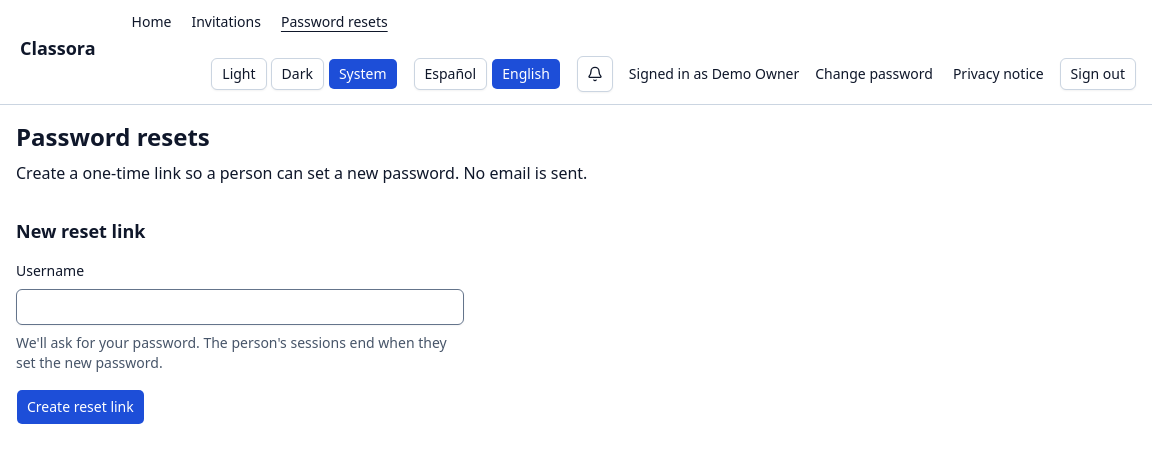
Test: the form (I2, I3) › validates an empty username without a request
Click the button "Create reset link".
click(80, 407)  # box top-left (16, 389), bottom-right (145, 425)
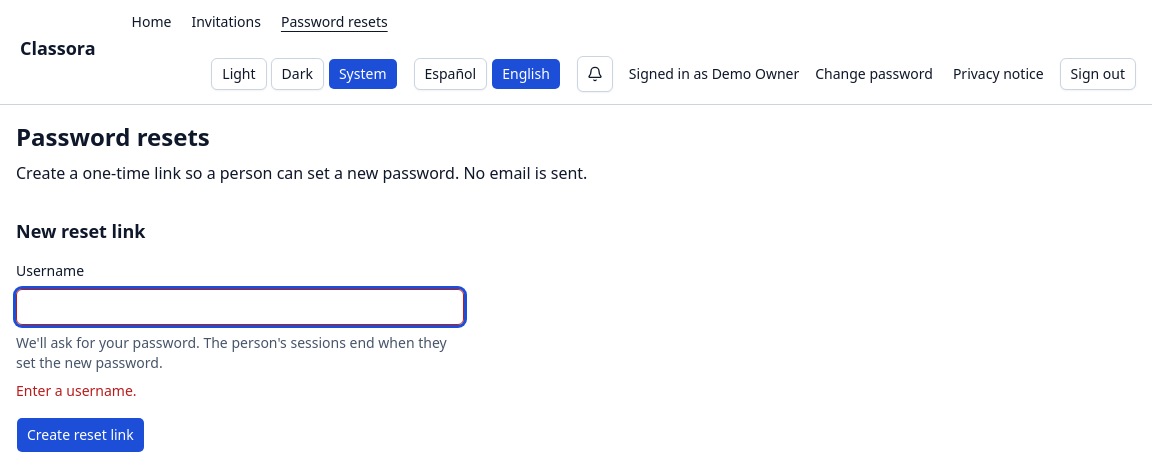
Result: the element that starts with "Password resets" shows "Enter a username." at top-left (16, 381), bottom-right (137, 400)
